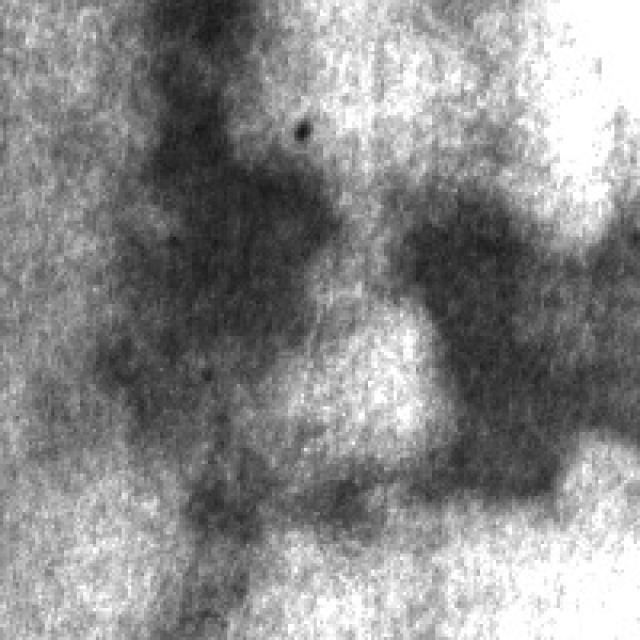patches: (115, 0, 323, 416), (387, 176, 637, 506), (179, 445, 378, 630)
